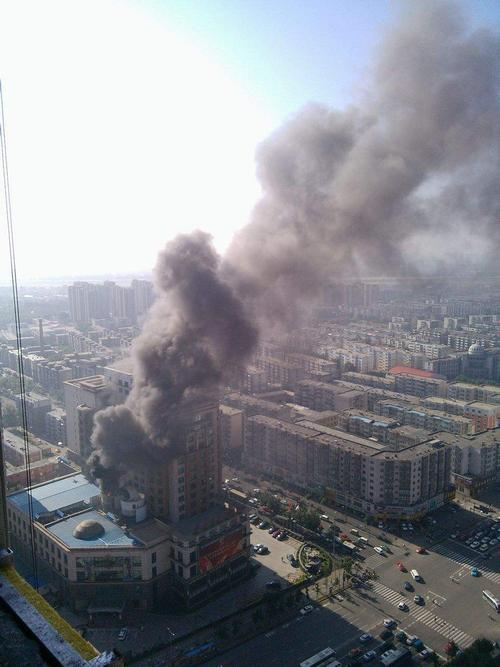smoke: (73, 240, 261, 482)
smoke1: (254, 5, 500, 290)
